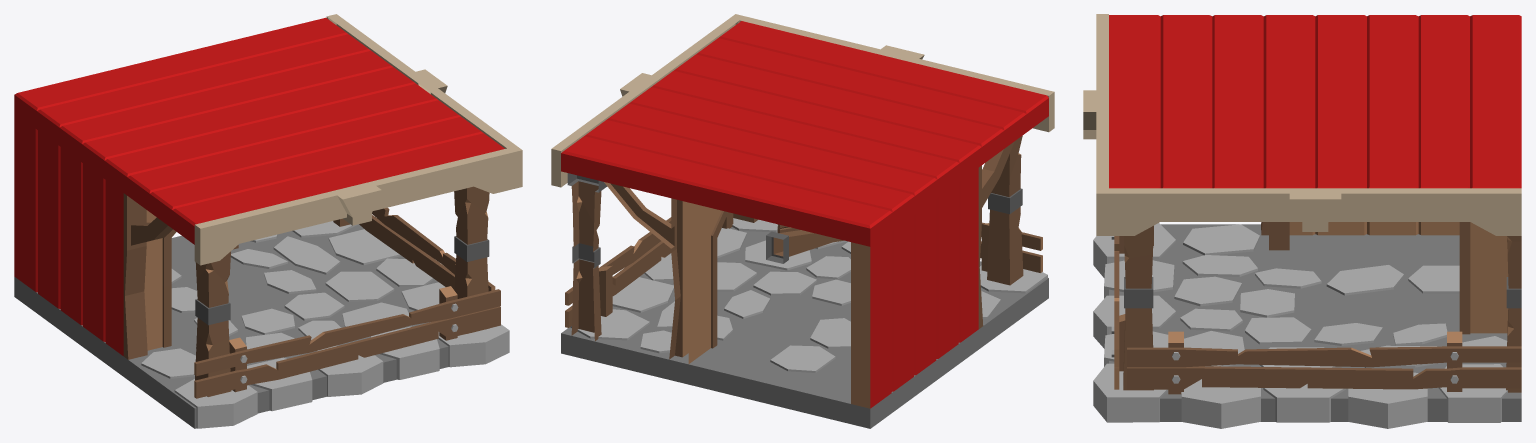
File: Farm_Level_01_CornerLeft.fbx
3 renders of one model, left to right at view 1: azimuth 30°, elevation 25°; view 2: azimuth 150°, elevation 25°; view 3: azimuth 270°, elevation 25°, orthographic. The views are drawn at different scales.
Parts seen in each view (by area): view 1: Farm_Level_01_CornerLeft; view 2: Farm_Level_01_CornerLeft; view 3: Farm_Level_01_CornerLeft.
Part boxes in pixels (x1,y1,x2,y2): Farm_Level_01_CornerLeft: (14,14,522,428); Farm_Level_01_CornerLeft: (551,14,1054,428); Farm_Level_01_CornerLeft: (1083,14,1521,428).
Bounding box in the file's own units: 850 × 500 × 850.
